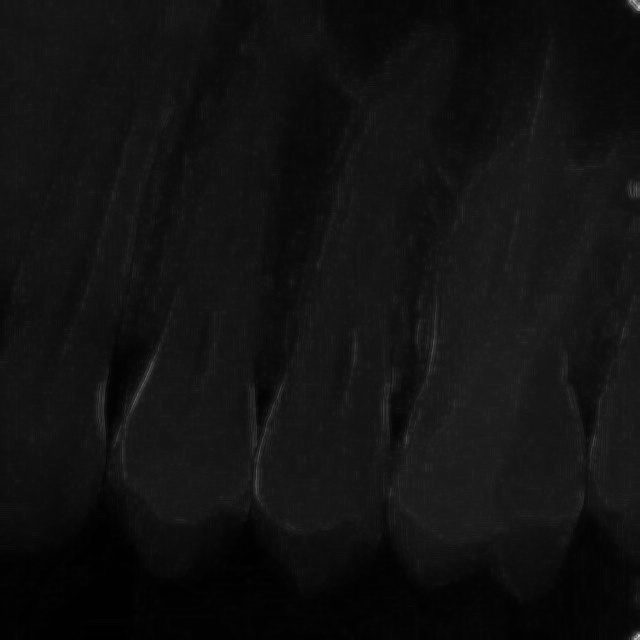Class 0- No endodontic treatment: (395, 5, 625, 592)
